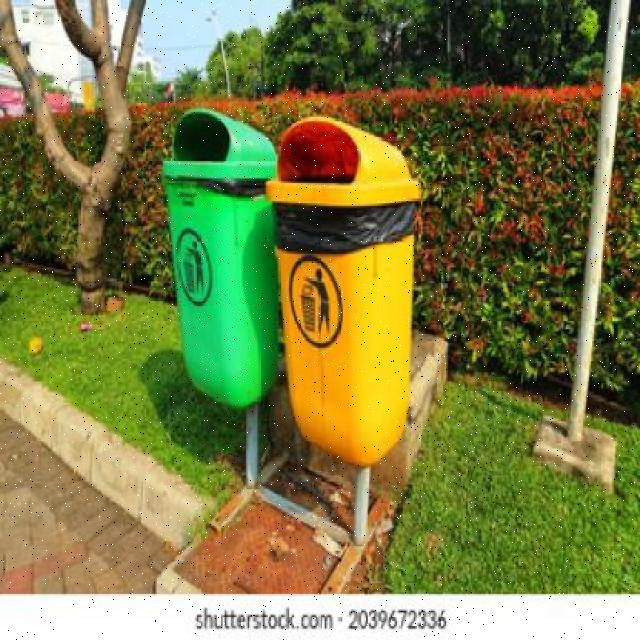garbage container: (270, 113, 435, 484), (151, 95, 287, 420)
